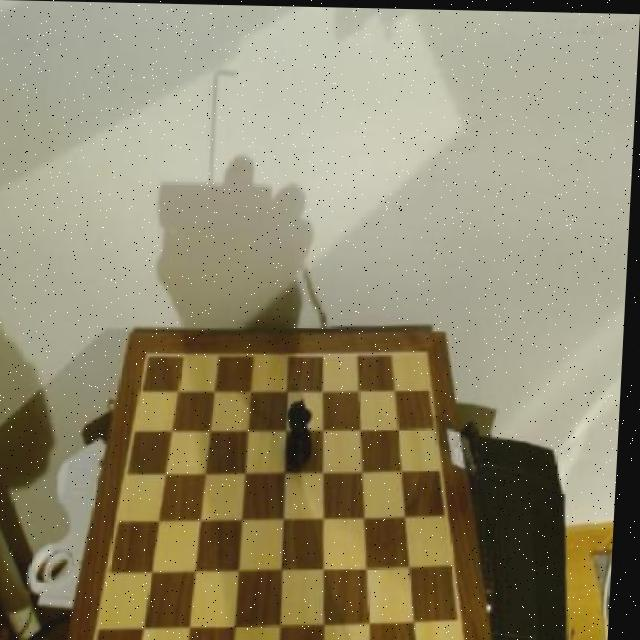black-king: (287, 387, 323, 470)
